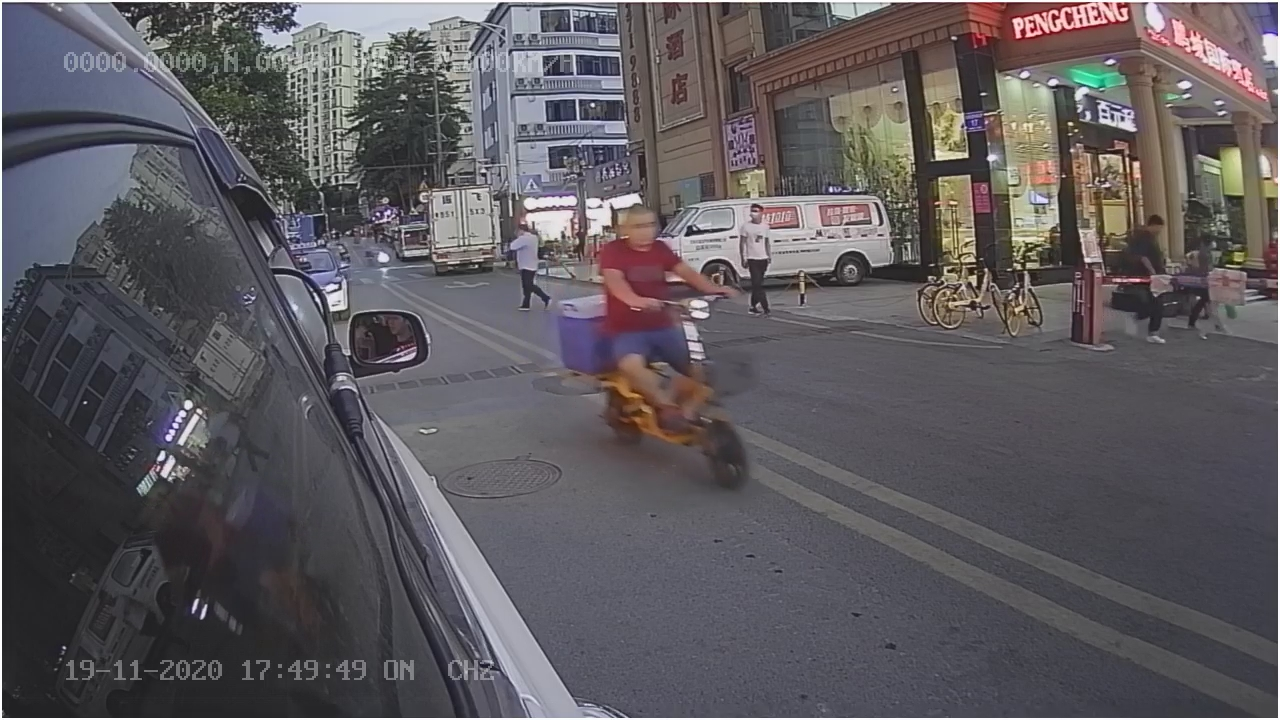person: (595, 203, 683, 328)
